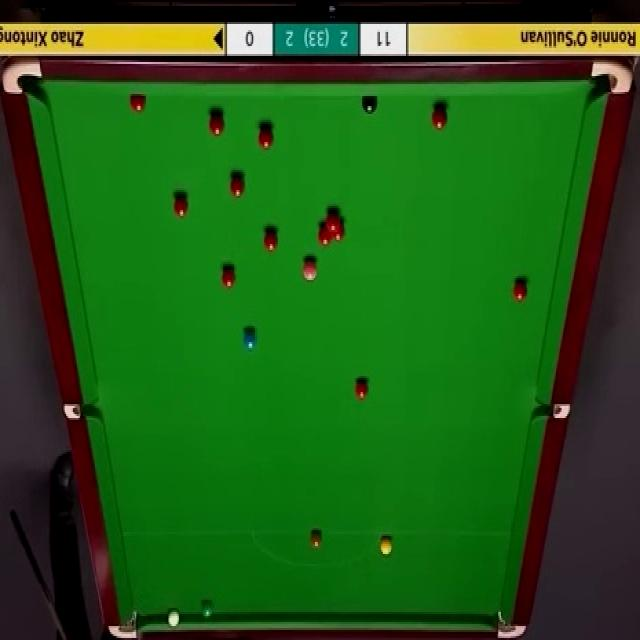black-ball: (360, 94, 378, 115)
blue-ball: (243, 330, 260, 349)
brown-ball: (310, 532, 322, 552)
green-ball: (201, 600, 214, 618)
pink-ball: (301, 256, 318, 281)
red-ball: (264, 229, 282, 255), (432, 105, 449, 132), (208, 110, 225, 136), (220, 265, 236, 291), (258, 124, 274, 150), (230, 172, 246, 198), (173, 194, 188, 218), (514, 280, 528, 305), (332, 218, 346, 242), (356, 376, 368, 403), (318, 222, 331, 246), (129, 97, 147, 114), (324, 210, 340, 229)
white-ball: (168, 610, 180, 626)
yellow-ball: (381, 538, 393, 554)
